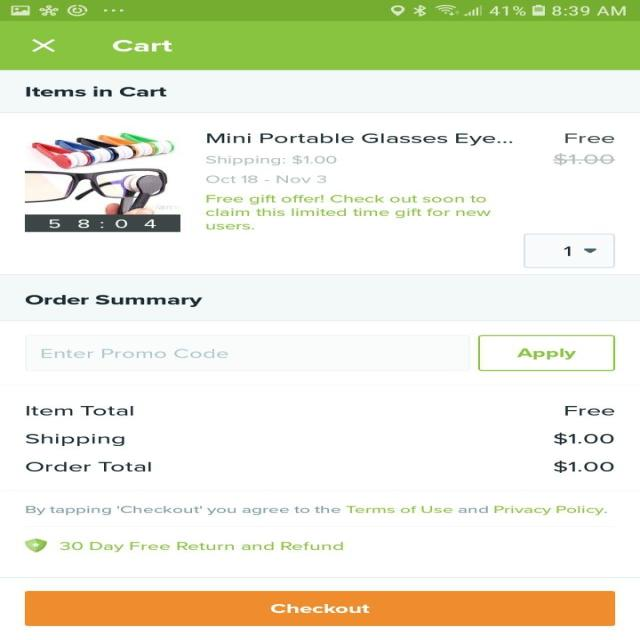EditText: (24, 334, 470, 371)
Icon: (31, 38, 55, 52), (583, 248, 597, 253)
Image: (24, 132, 180, 232), (24, 538, 48, 552)
Text: (205, 194, 490, 230), (24, 505, 606, 515), (206, 133, 512, 146), (59, 541, 343, 552), (25, 294, 203, 307), (40, 348, 228, 358), (205, 154, 337, 166), (25, 86, 167, 97), (24, 433, 126, 446), (25, 461, 152, 471), (206, 174, 326, 183), (26, 406, 134, 416), (551, 152, 615, 166), (552, 432, 614, 445), (552, 460, 614, 473), (112, 40, 172, 52), (564, 133, 614, 144), (564, 406, 614, 416), (562, 246, 570, 257)
TextButton: (24, 590, 614, 626), (478, 334, 614, 371)
